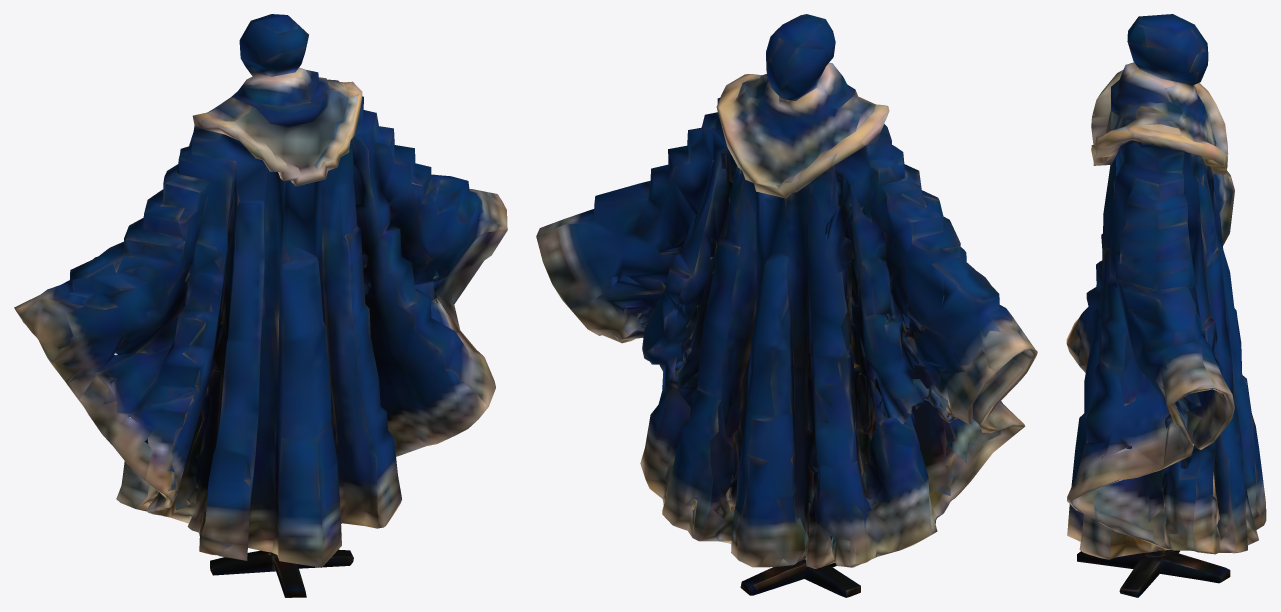
File: cape-louis14.glb
3 renders of one model, left to right at view 1: azimuth 30°, elevation 25°; view 2: azimuth 150°, elevation 25°; view 3: azimuth 270°, elevation 25°, orthographic.
Visible parts, largest first — view 1: material.001; view 2: material.001; view 3: material.001.
Part boxes in pixels (bbox=[...]): material.001: bbox=[14, 14, 507, 597]; material.001: bbox=[536, 14, 1037, 597]; material.001: bbox=[1066, 14, 1266, 597].
Bounding box in the file's own units: 1.07 × 1.15 × 0.3808.
Materials: 1 (1 with a texture image).
